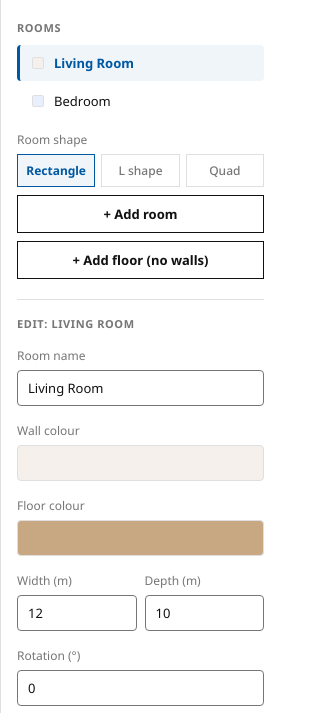
Test: editing a selected room › renaming the room updates the store
This screenshot has width=320, height=713.
Replace the text in the field showing "Living Room" with "Great Room" at coordinates (140, 388), box [17,370,264,406]
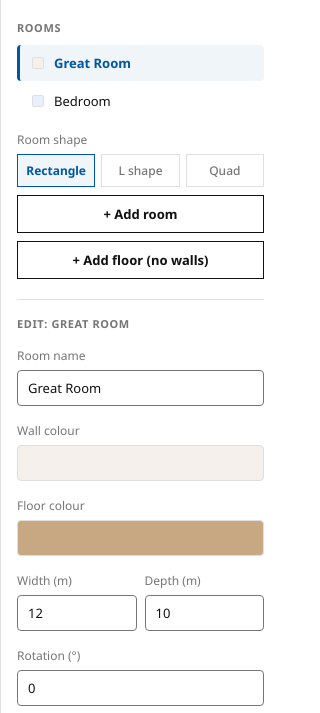
Result: the element showing "Great Room" is shown at [17,45,264,81]
